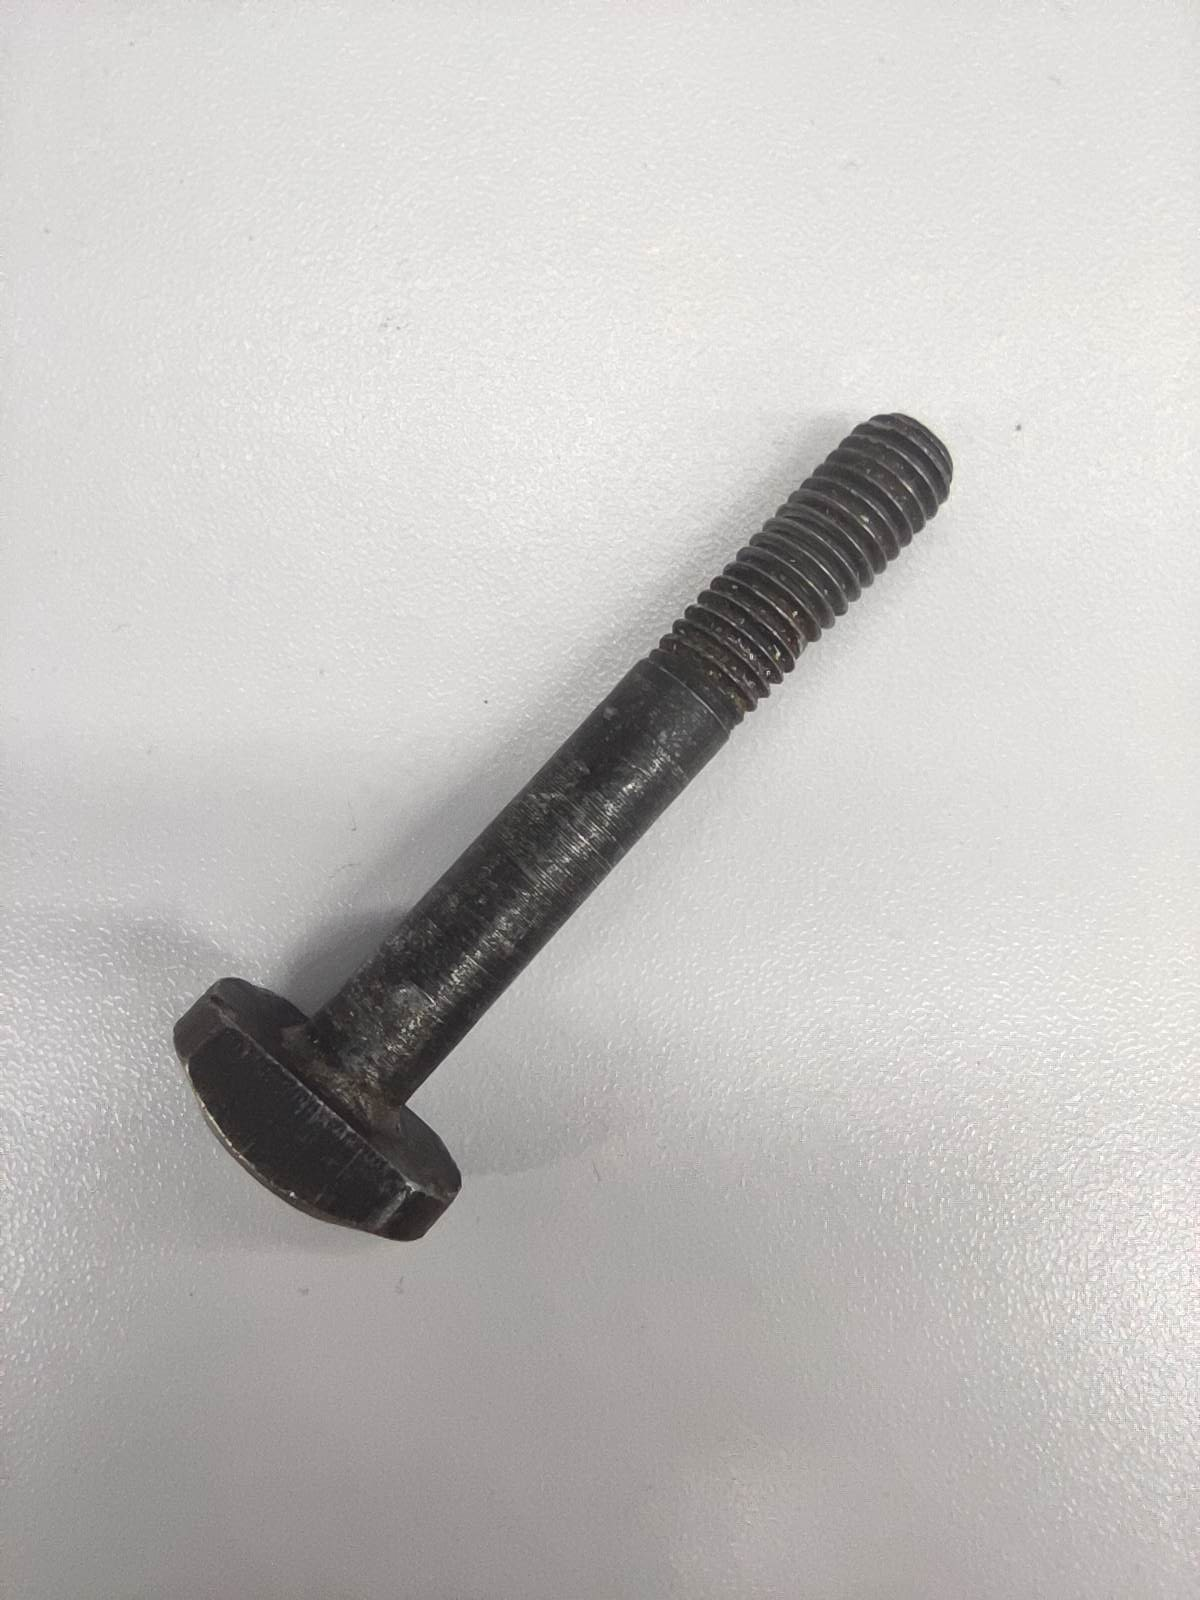T型螺钉: (171, 413, 953, 1243)
